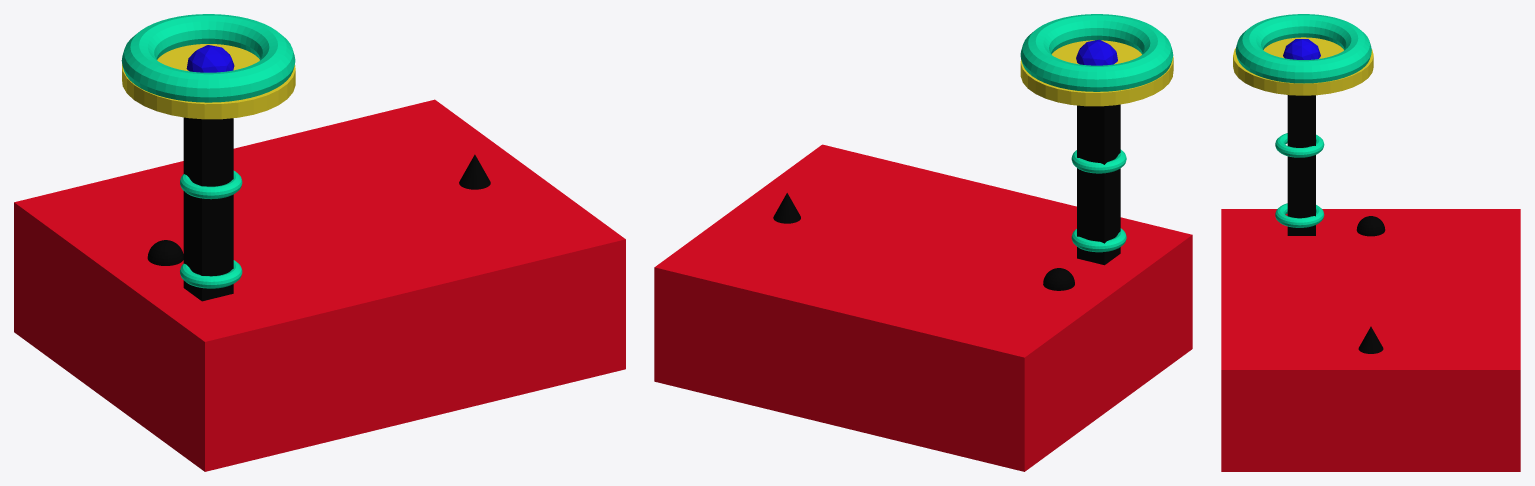
File: redvision.glb
3 renders of one model, left to right at view 1: azimuth 30°, elevation 25°; view 2: azimuth 150°, elevation 25°; view 3: azimuth 270°, elevation 25°, orthographic. The views are drawn at different scales.
Visible parts, largest first — view 1: Cube, Torus.003, Cube.001, Cylinder, Icosphere, Torus.001, Torus.002, Sphere, Cone; view 2: Cube, Torus.003, Cube.001, Cylinder, Icosphere, Torus.002, Torus.001, Sphere; view 3: Cube, Torus.003, Cube.001, Cylinder, Icosphere, Torus.001, Torus.002, Sphere, Cone.
Boxes of the visible parts, x1,y1,x2,y2 form: Cube: (14, 99, 625, 471); Torus.003: (121, 14, 295, 102); Cube.001: (183, 117, 233, 301); Cylinder: (122, 44, 295, 119); Icosphere: (186, 45, 234, 72); Torus.001: (180, 170, 242, 199); Torus.002: (180, 260, 242, 288); Sphere: (147, 240, 183, 265); Cone: (459, 154, 490, 189); Cube: (654, 144, 1192, 471); Torus.003: (1020, 14, 1173, 91); Cube.001: (1077, 104, 1120, 265); Cylinder: (1020, 40, 1173, 106); Icosphere: (1076, 39, 1117, 65); Torus.002: (1071, 228, 1126, 252); Torus.001: (1071, 149, 1126, 173); Sphere: (1043, 268, 1074, 290); Cube: (1221, 209, 1520, 471); Torus.003: (1235, 14, 1371, 83); Cube.001: (1287, 95, 1315, 235); Cylinder: (1233, 37, 1373, 95); Icosphere: (1283, 39, 1320, 59); Torus.001: (1275, 133, 1324, 157); Torus.002: (1275, 203, 1324, 227); Sphere: (1356, 216, 1385, 236); Cone: (1358, 326, 1383, 353).
Size of the model in its own units: 20.29 by 16.52 by 15.24.
